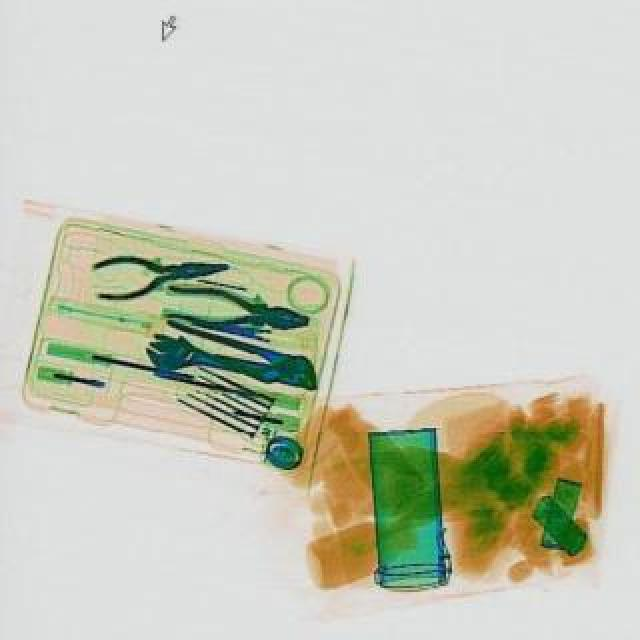scissors: (142, 336, 312, 402)
wrench: (162, 284, 310, 344), (88, 248, 228, 308)
